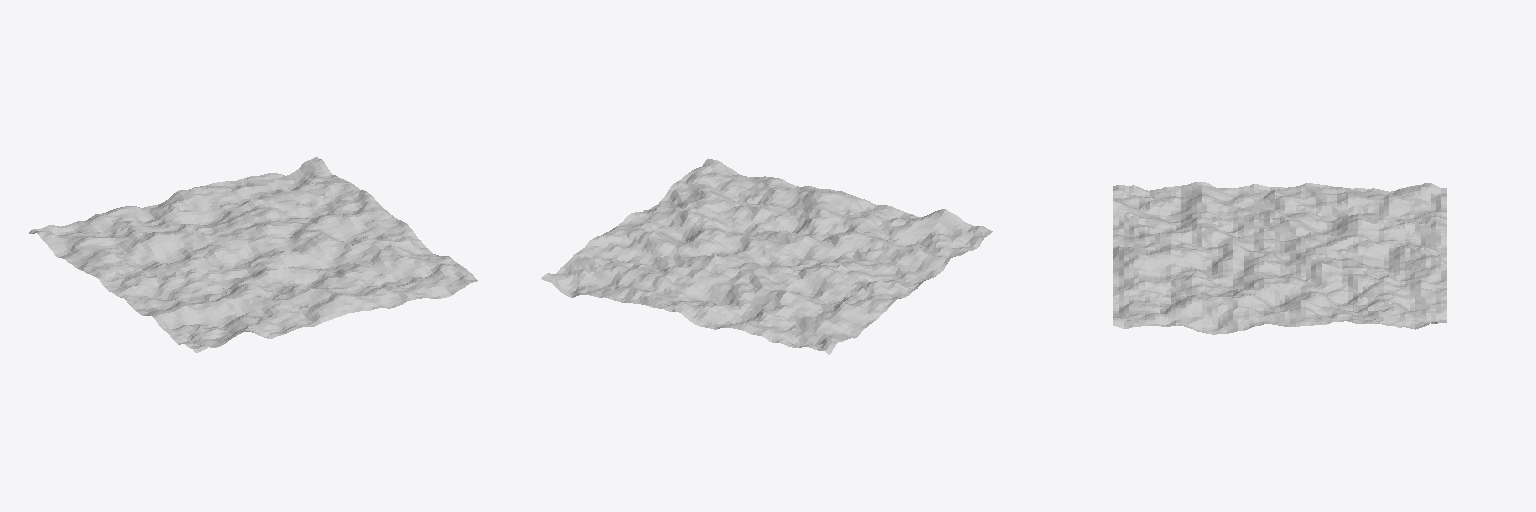
The model's file is overwater.obj.
3 renders of one model, left to right at view 1: azimuth 30°, elevation 25°; view 2: azimuth 150°, elevation 25°; view 3: azimuth 270°, elevation 25°, orthographic.
Parts seen in each view (by area): view 1: Plane.001; view 2: Plane.001; view 3: Plane.001.
Boxes of the visible parts, <box> form: Plane.001: <box>29,157,477,352</box>; Plane.001: <box>541,159,992,354</box>; Plane.001: <box>1113,182,1446,334</box>.
Bounding box in the file's own units: 82.09 × 4.75 × 82.09.